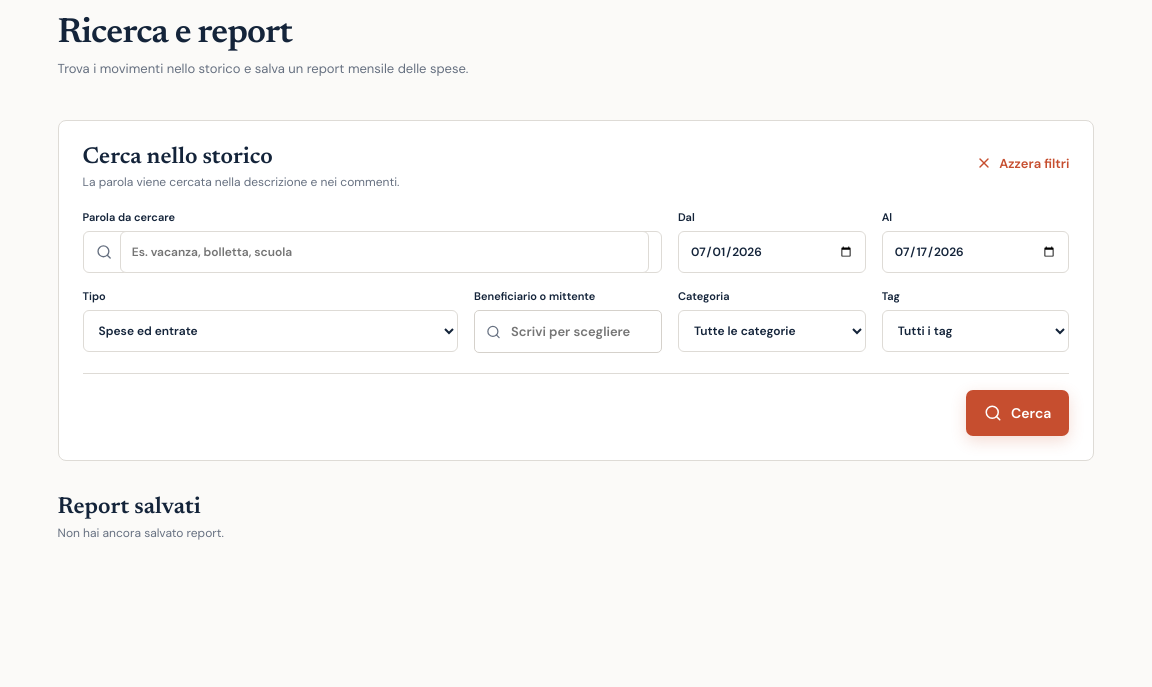
Test case: SearchReportsPage › collapses the active report when a new search starts and keeps its filters unchanged
Type "bolletta" into the field with placeholder "Es. vacanza, bolletta, scuola" at (384, 252), box [120, 231, 649, 273]
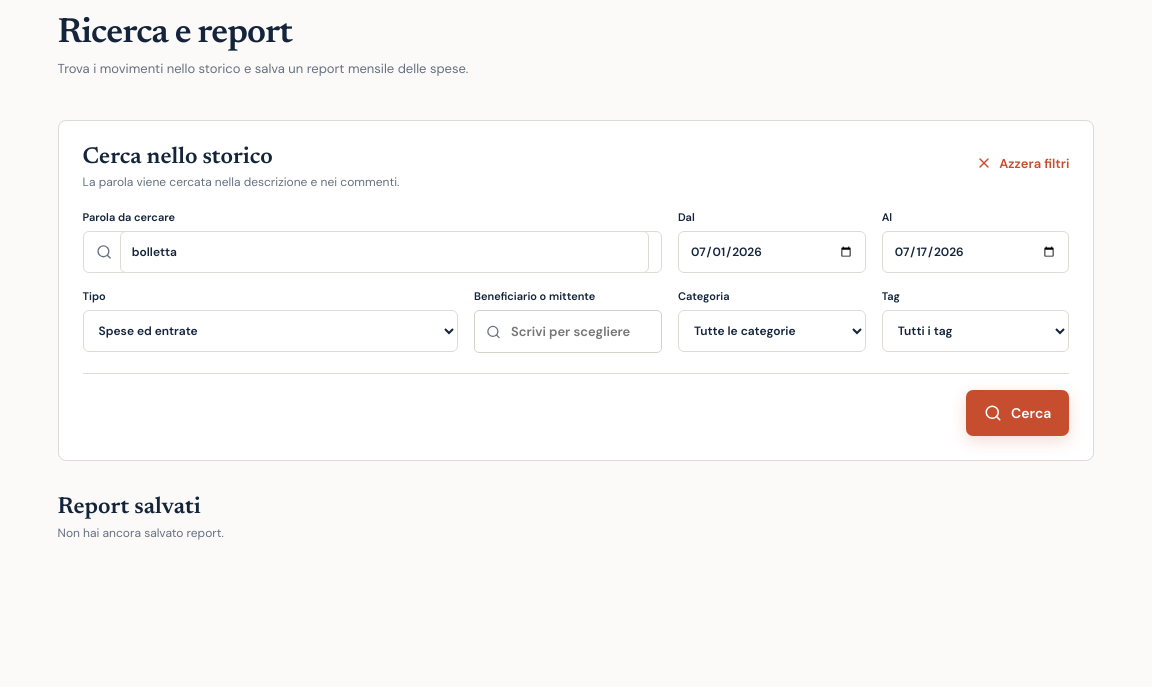
Click the button "Cerca" at (1018, 413), box [966, 390, 1069, 436]
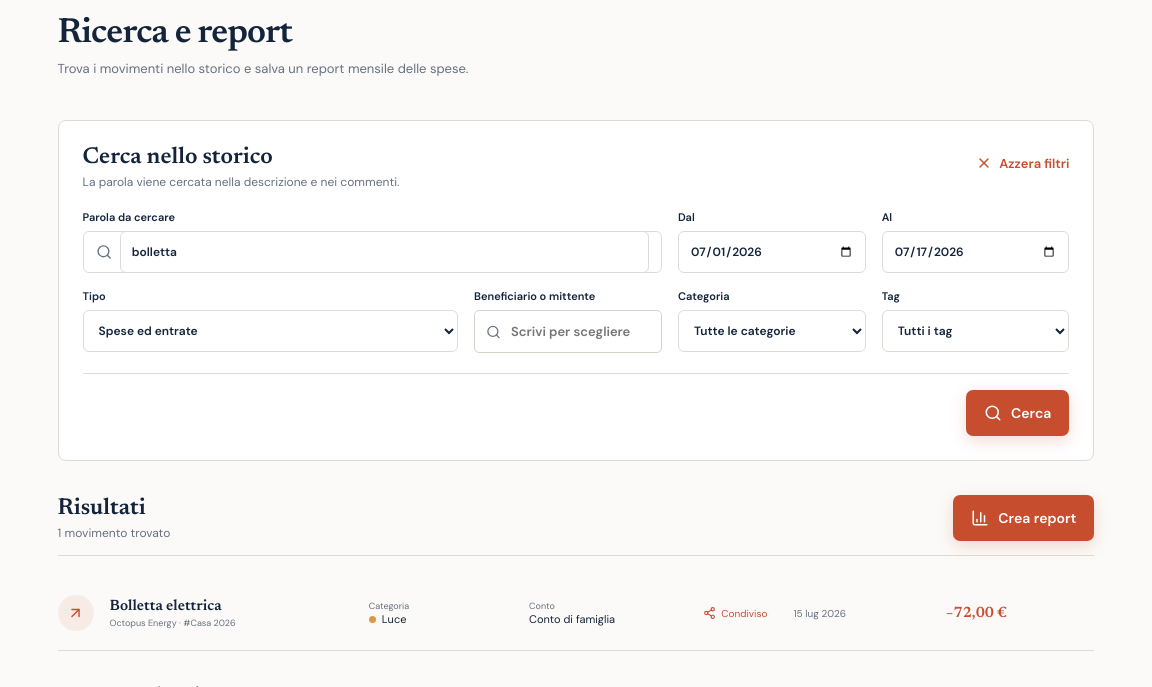
Click the button "Crea report" at (1024, 518), box [953, 495, 1094, 541]
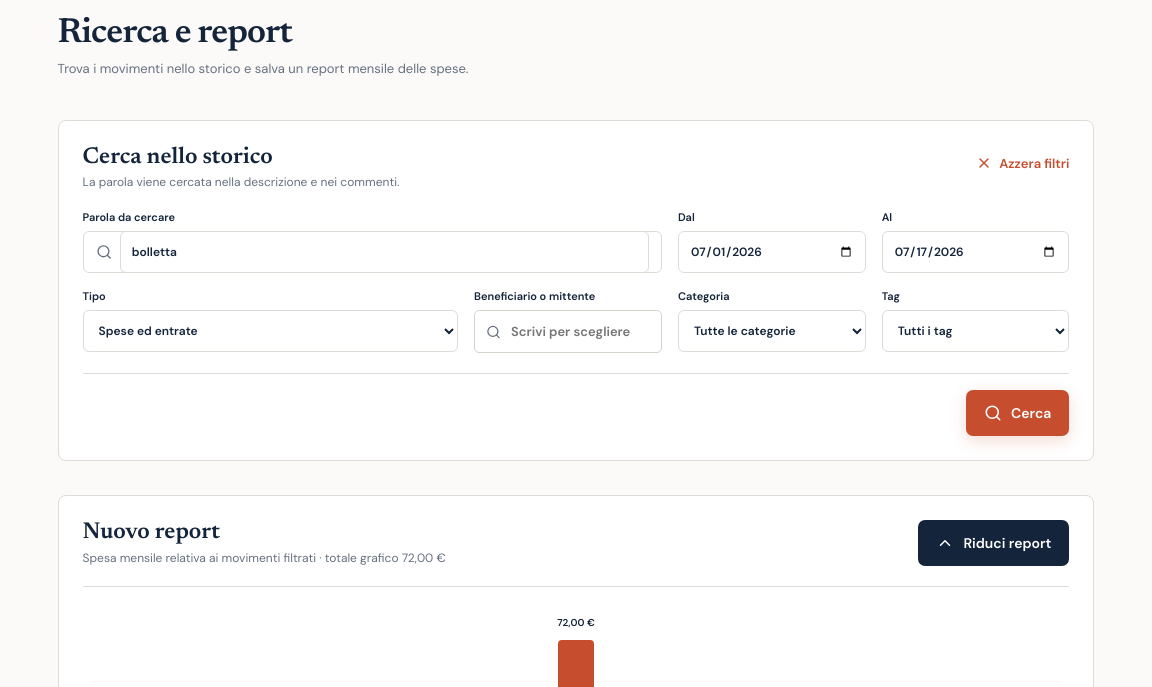
Replace the text in the field with placeholder "Es. vacanza, bolletta, scuola" with "hotel" at (384, 252), box [120, 231, 649, 273]
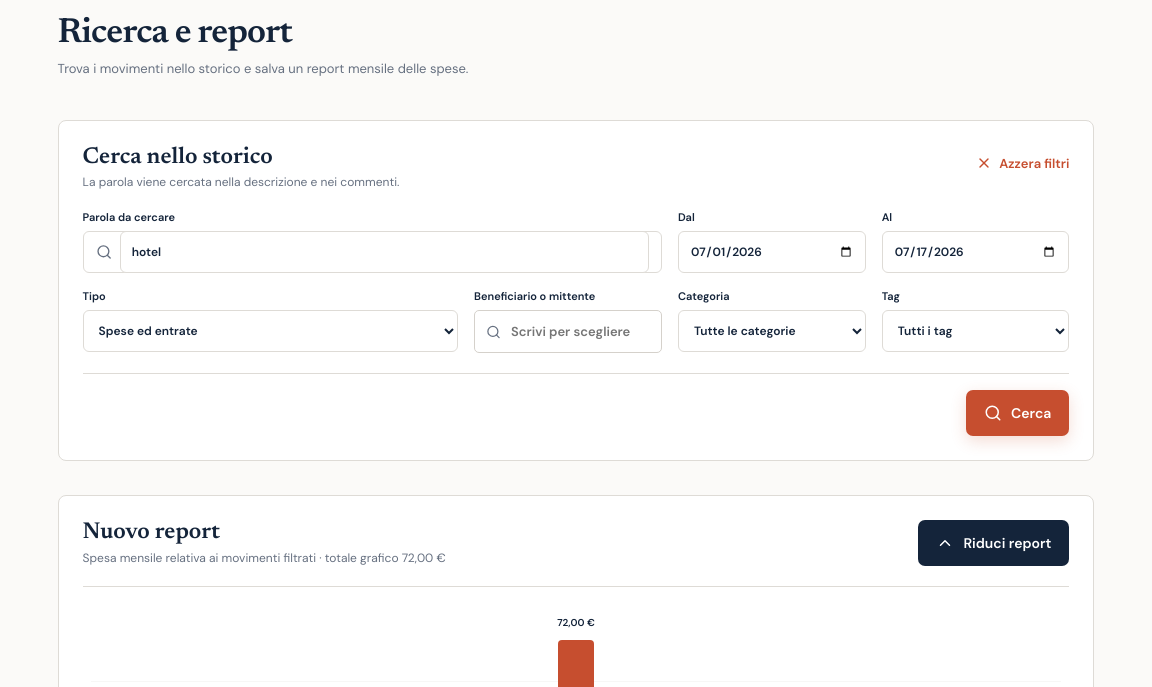
Click the button "Cerca" at (1018, 413), box [966, 390, 1069, 436]
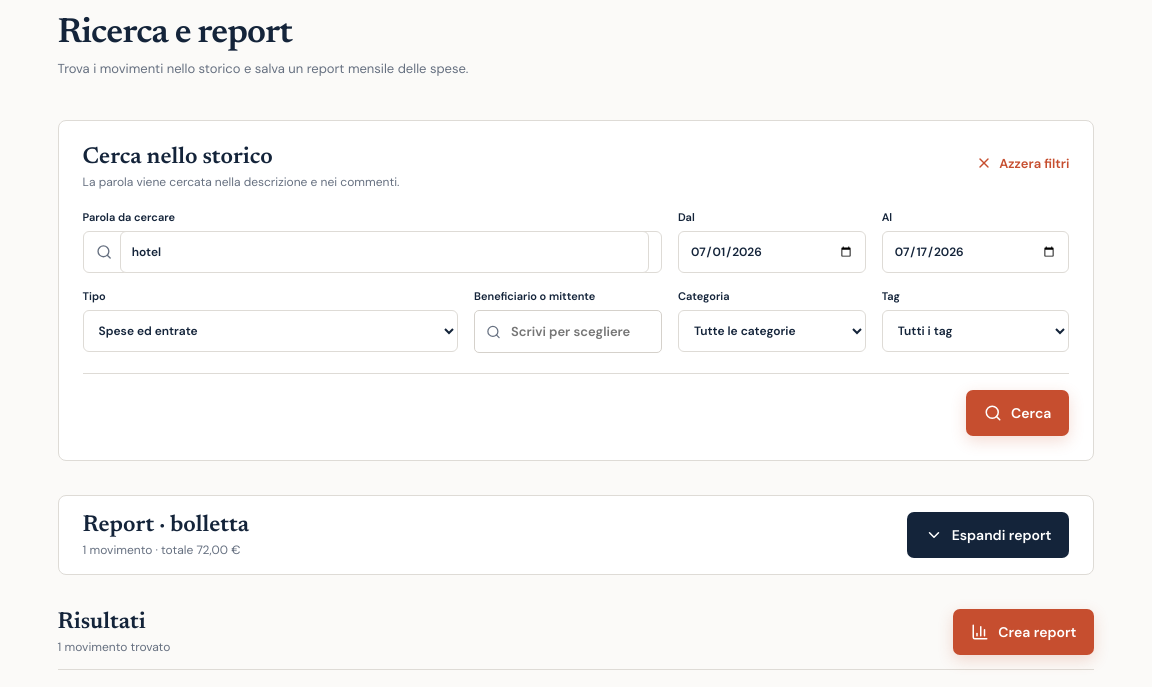
Expected: the heading "Report · bolletta" is shown, [83, 513, 249, 538]
Expected: the button "Espandi report" is shown
Expected: the heading "Risultati" is shown, [58, 611, 146, 634]
Click the button "Espandi report" at (988, 535), box [907, 512, 1069, 558]
(page scrolled)
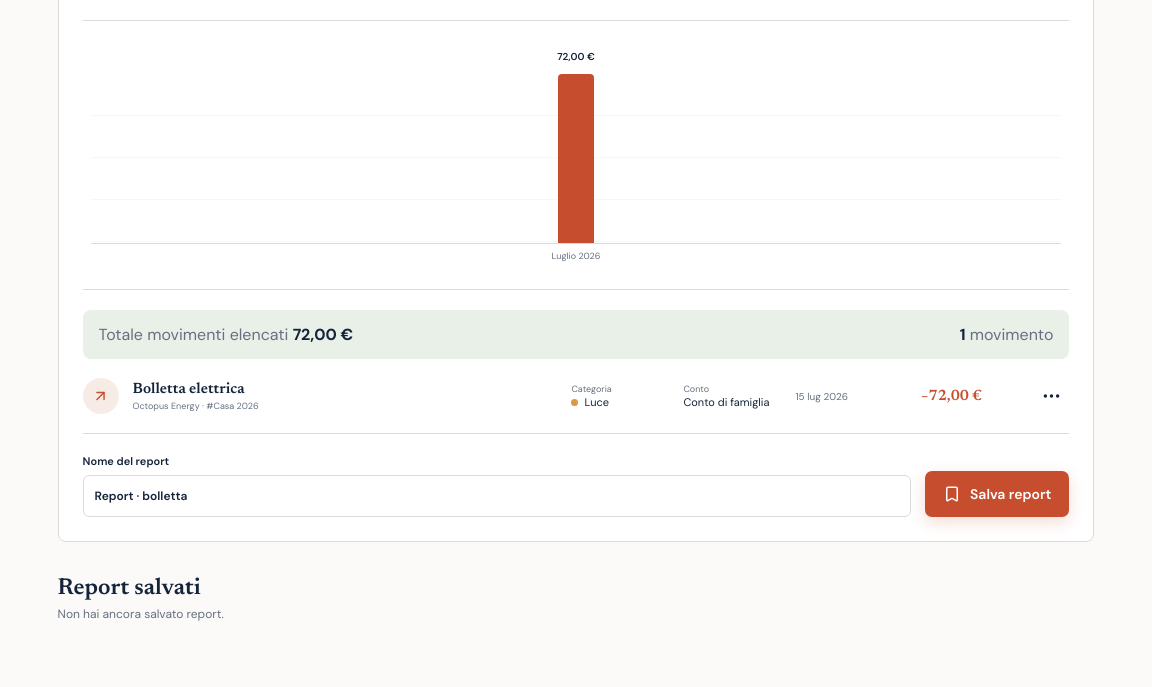
Expected: the heading "Risultati" is gone
Expected: the text "Bolletta elettrica" is shown, [133, 382, 245, 397]
Expected: the field labelled "Nome del report" holds "Report · bolletta", [83, 475, 911, 517]
